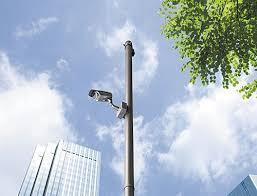tutu: (86, 86, 116, 106)
